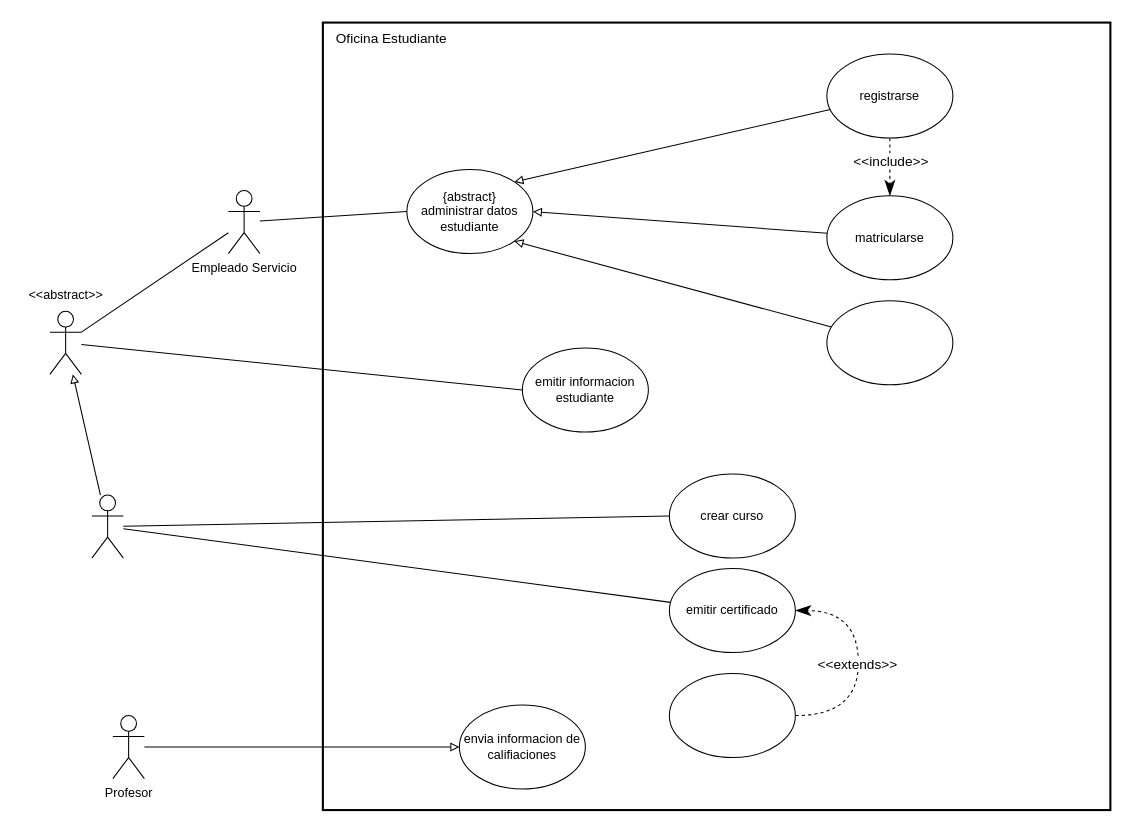
The diagram is 1129 pixels wide and 828 high, and some of its shapes have lost their labels. The centre of each missing label's shape, as x and y in pixels:
"Empleado" belongs at pixel 65 342.
"Empleado Administracion" belongs at pixel 107 526.
"reservar sala conferencias" belongs at pixel 731 715.
"retirarse" belongs at pixel 889 342.
